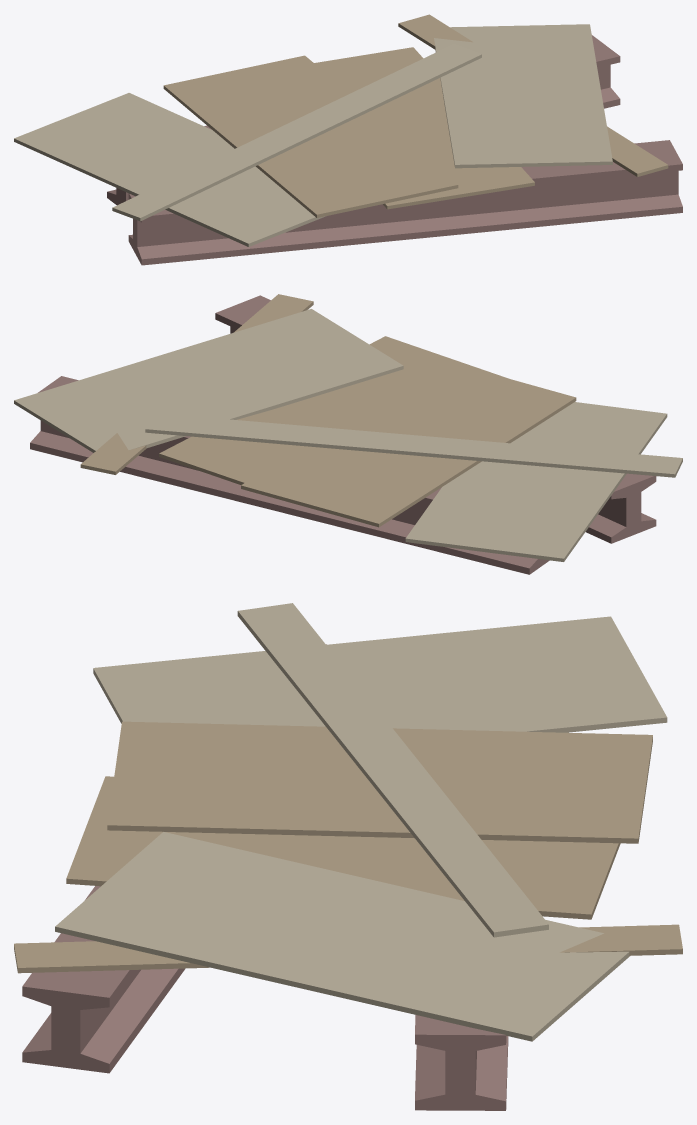
The model's file is obstacle_jump_tutorial.fbx.
3 renders of one model, top to bottom at view 1: azimuth 30°, elevation 25°; view 2: azimuth 150°, elevation 25°; view 3: azimuth 270°, elevation 25°, orthographic. The views are drawn at different scales.
Parts seen in each view (by area): view 1: viga01, tabua06, tabua03, tabua01, tabua05, tabua02, tabua04, viga02; view 2: tabua06, tabua03, tabua01, tabua05, tabua02, viga02, viga01, tabua04; view 3: tabua06, tabua03, tabua01, tabua05, tabua02, viga01, viga02, tabua04.
Part boxes in pixels (box(x1,y1,x2,y2)): viga01: box(128, 140, 682, 265); tabua06: box(434, 24, 612, 168); tabua03: box(163, 55, 458, 217); tabua01: box(14, 93, 326, 246); tabua05: box(112, 44, 481, 221); tabua02: box(314, 47, 534, 209); tabua04: box(398, 14, 668, 176); viga02: box(107, 35, 620, 205); tabua06: box(14, 309, 403, 452); tabua03: box(241, 359, 576, 527); tabua01: box(405, 402, 667, 561); tabua05: box(145, 413, 682, 477); tabua02: box(159, 336, 507, 484); viga02: box(30, 376, 549, 574); viga01: box(215, 295, 656, 543); tabua04: box(80, 294, 313, 474); tabua06: box(55, 832, 629, 1041); tabua03: box(107, 721, 652, 843); tabua01: box(93, 616, 667, 732); tabua05: box(237, 603, 548, 937); tabua02: box(66, 776, 620, 919); viga01: box(22, 644, 326, 1073); viga02: box(415, 1015, 508, 1110); tabua04: box(14, 924, 682, 973).
Bounding box in the file's own units: 19.72 × 2.02 × 13.25.
